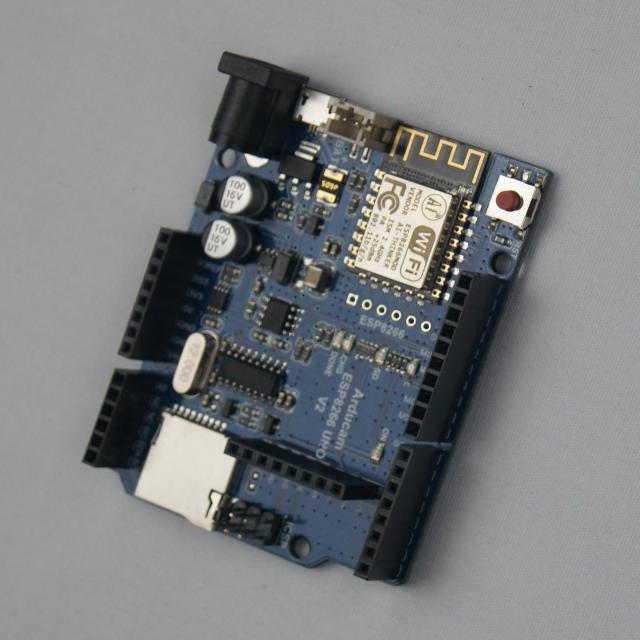Arduino Uno Camera Shield: (84, 53, 551, 583)
